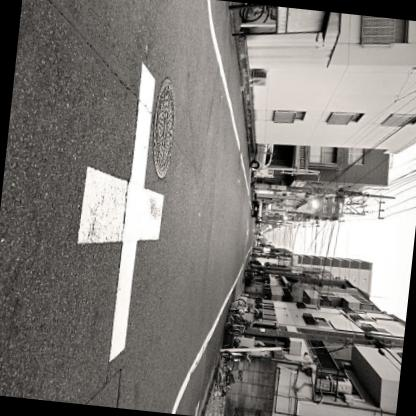manholes: (136, 68, 192, 188)
